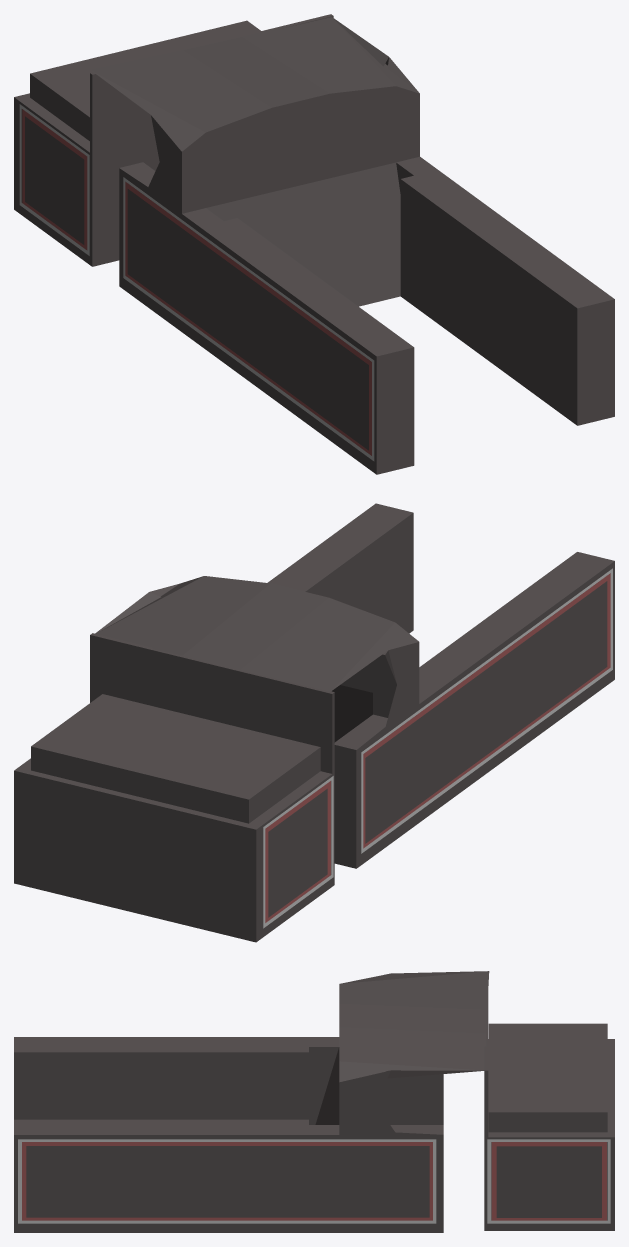
Rendered from lnwr-tank-parts.dae.
3 views of the same model, one above another, from view 1: azimuth 30°, elevation 25°; view 2: azimuth 150°, elevation 25°; view 3: azimuth 270°, elevation 25° (orthographic). The views are drawn at different scales.
Visible parts, largest first — view 1: Cube_006, Cube_010, Cube_011, Cube_012, Plane_001, Plane_000, Plane_004, Plane_005; view 2: Cube_006, Cube_010, Cube_011, Cube_012, Plane_001, Plane_000, Plane_004, Plane_005; view 3: Cube_006, Cube_011, Cube_010, Plane_008, Plane_010, Plane_003, Plane_002, Cube_012.
Part boxes in pixels (x1,y1,x2,y2): Cube_006: (91, 17, 614, 474); Cube_010: (14, 93, 159, 266); Cube_011: (30, 20, 260, 140); Cube_012: (90, 14, 333, 156); Plane_001: (125, 182, 371, 455); Plane_000: (123, 177, 374, 461); Plane_004: (22, 109, 87, 250); Plane_005: (19, 104, 89, 255); Cube_006: (95, 503, 614, 868); Cube_010: (14, 758, 334, 942); Cube_011: (31, 694, 320, 823); Cube_012: (90, 633, 334, 773); Plane_001: (363, 573, 610, 848); Plane_000: (361, 568, 612, 853); Plane_004: (265, 781, 330, 922); Plane_005: (263, 776, 333, 928); Cube_006: (14, 971, 489, 1232); Cube_011: (488, 1023, 607, 1132); Cube_010: (484, 1039, 614, 1230); Plane_008: (22, 1142, 432, 1220); Plane_010: (18, 1139, 436, 1223); Plane_003: (491, 1142, 606, 1220); Plane_002: (487, 1139, 610, 1223); Cube_012: (484, 992, 488, 1138).
Size of the model in its own units: 1.96 by 5.03 by 1.56.
